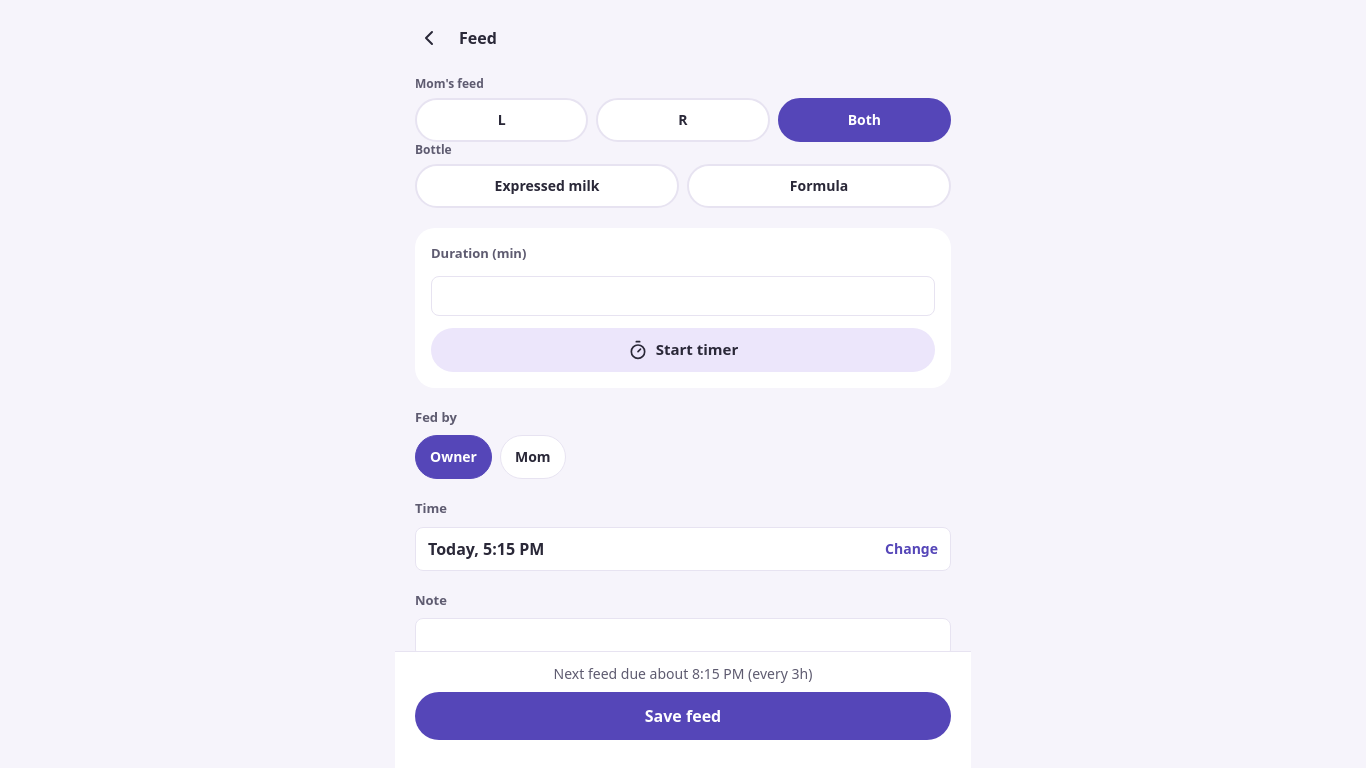
Test: Start timer starts it on the server, with the chosen type and the moment it was tapped
Click the radio button named "Mom's feed · R".
click(683, 120)  # box left=596, top=98, right=770, bottom=142
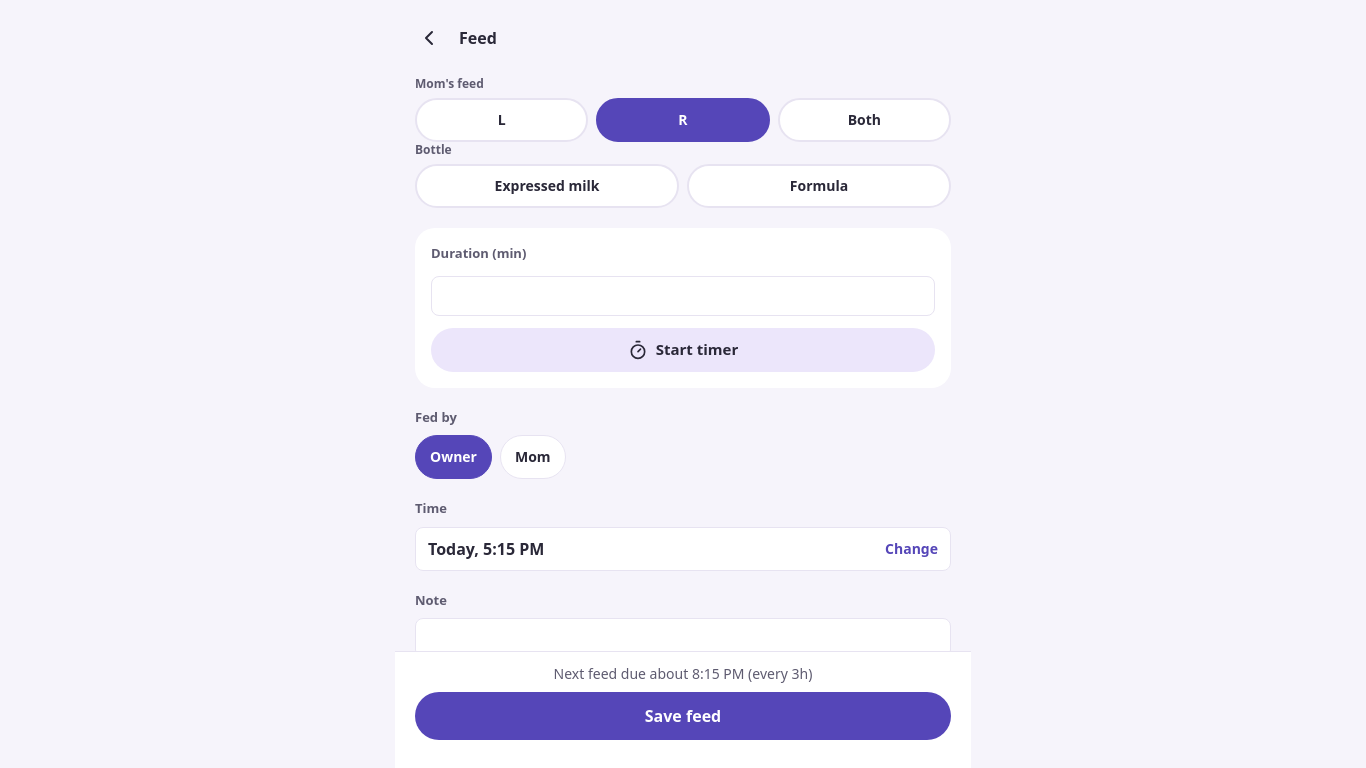
Click the button "Start timer".
click(683, 350)  # box left=431, top=328, right=935, bottom=372
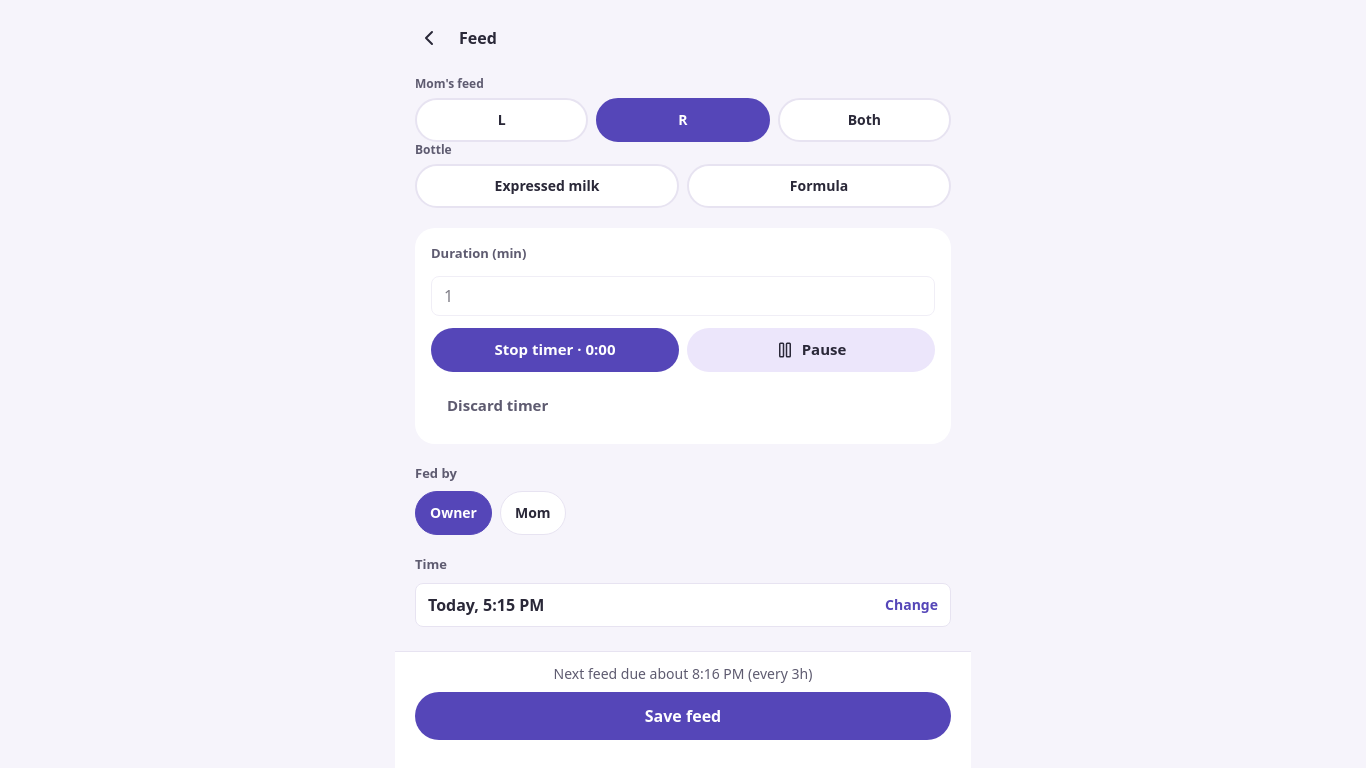
Result: the button "Stop timer · 0:00" is shown at left=431, top=328, right=679, bottom=372
